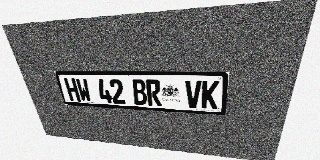2: (109, 79, 126, 104)
4: (96, 79, 113, 103)
B: (131, 79, 148, 105)
H: (64, 78, 81, 101)
K: (201, 80, 219, 109)
R: (145, 79, 162, 106)
V: (185, 80, 202, 108)
W: (75, 78, 92, 102)
